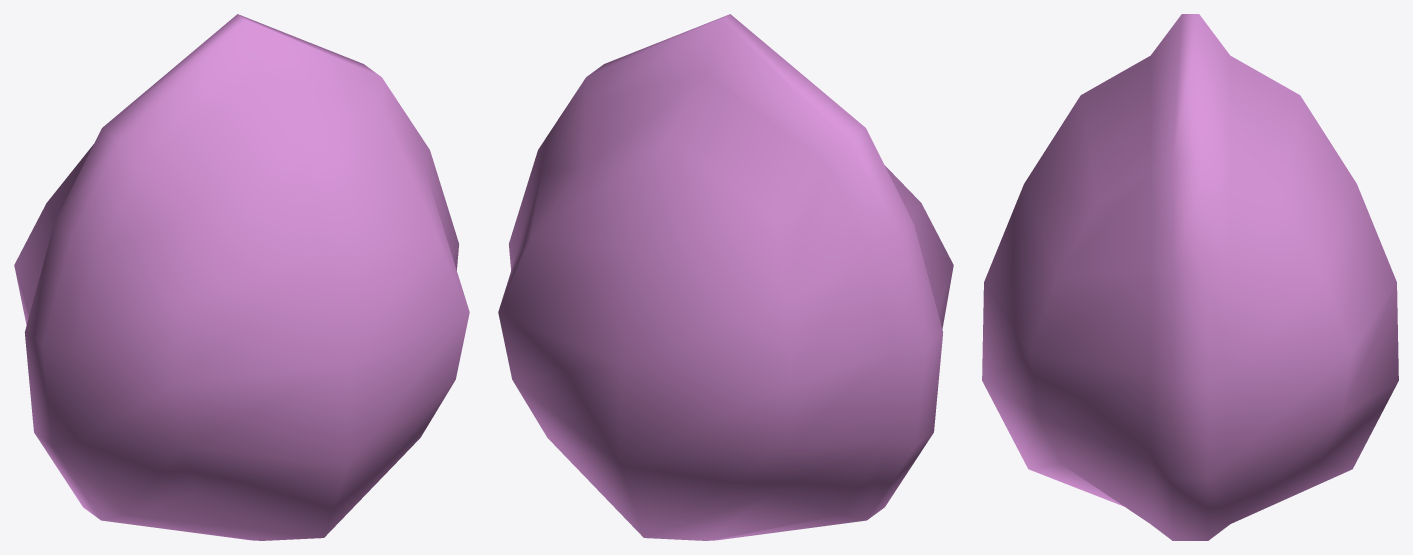
Rendered from planetPlant_seed.fbx.
The picture shows the model from 3 angles, left to right: view 1: azimuth 30°, elevation 25°; view 2: azimuth 150°, elevation 25°; view 3: azimuth 270°, elevation 25°; orthographic projection.
Parts seen in each view (by area): view 1: seed_planet; view 2: seed_planet; view 3: seed_planet.
Part boxes in pixels (left/top/right/bottom): seed_planet: left=14, top=14, right=469, bottom=540; seed_planet: left=498, top=14, right=953, bottom=540; seed_planet: left=982, top=14, right=1398, bottom=540.
Size of the model in its own units: 10.14 by 12.02 by 8.89.
